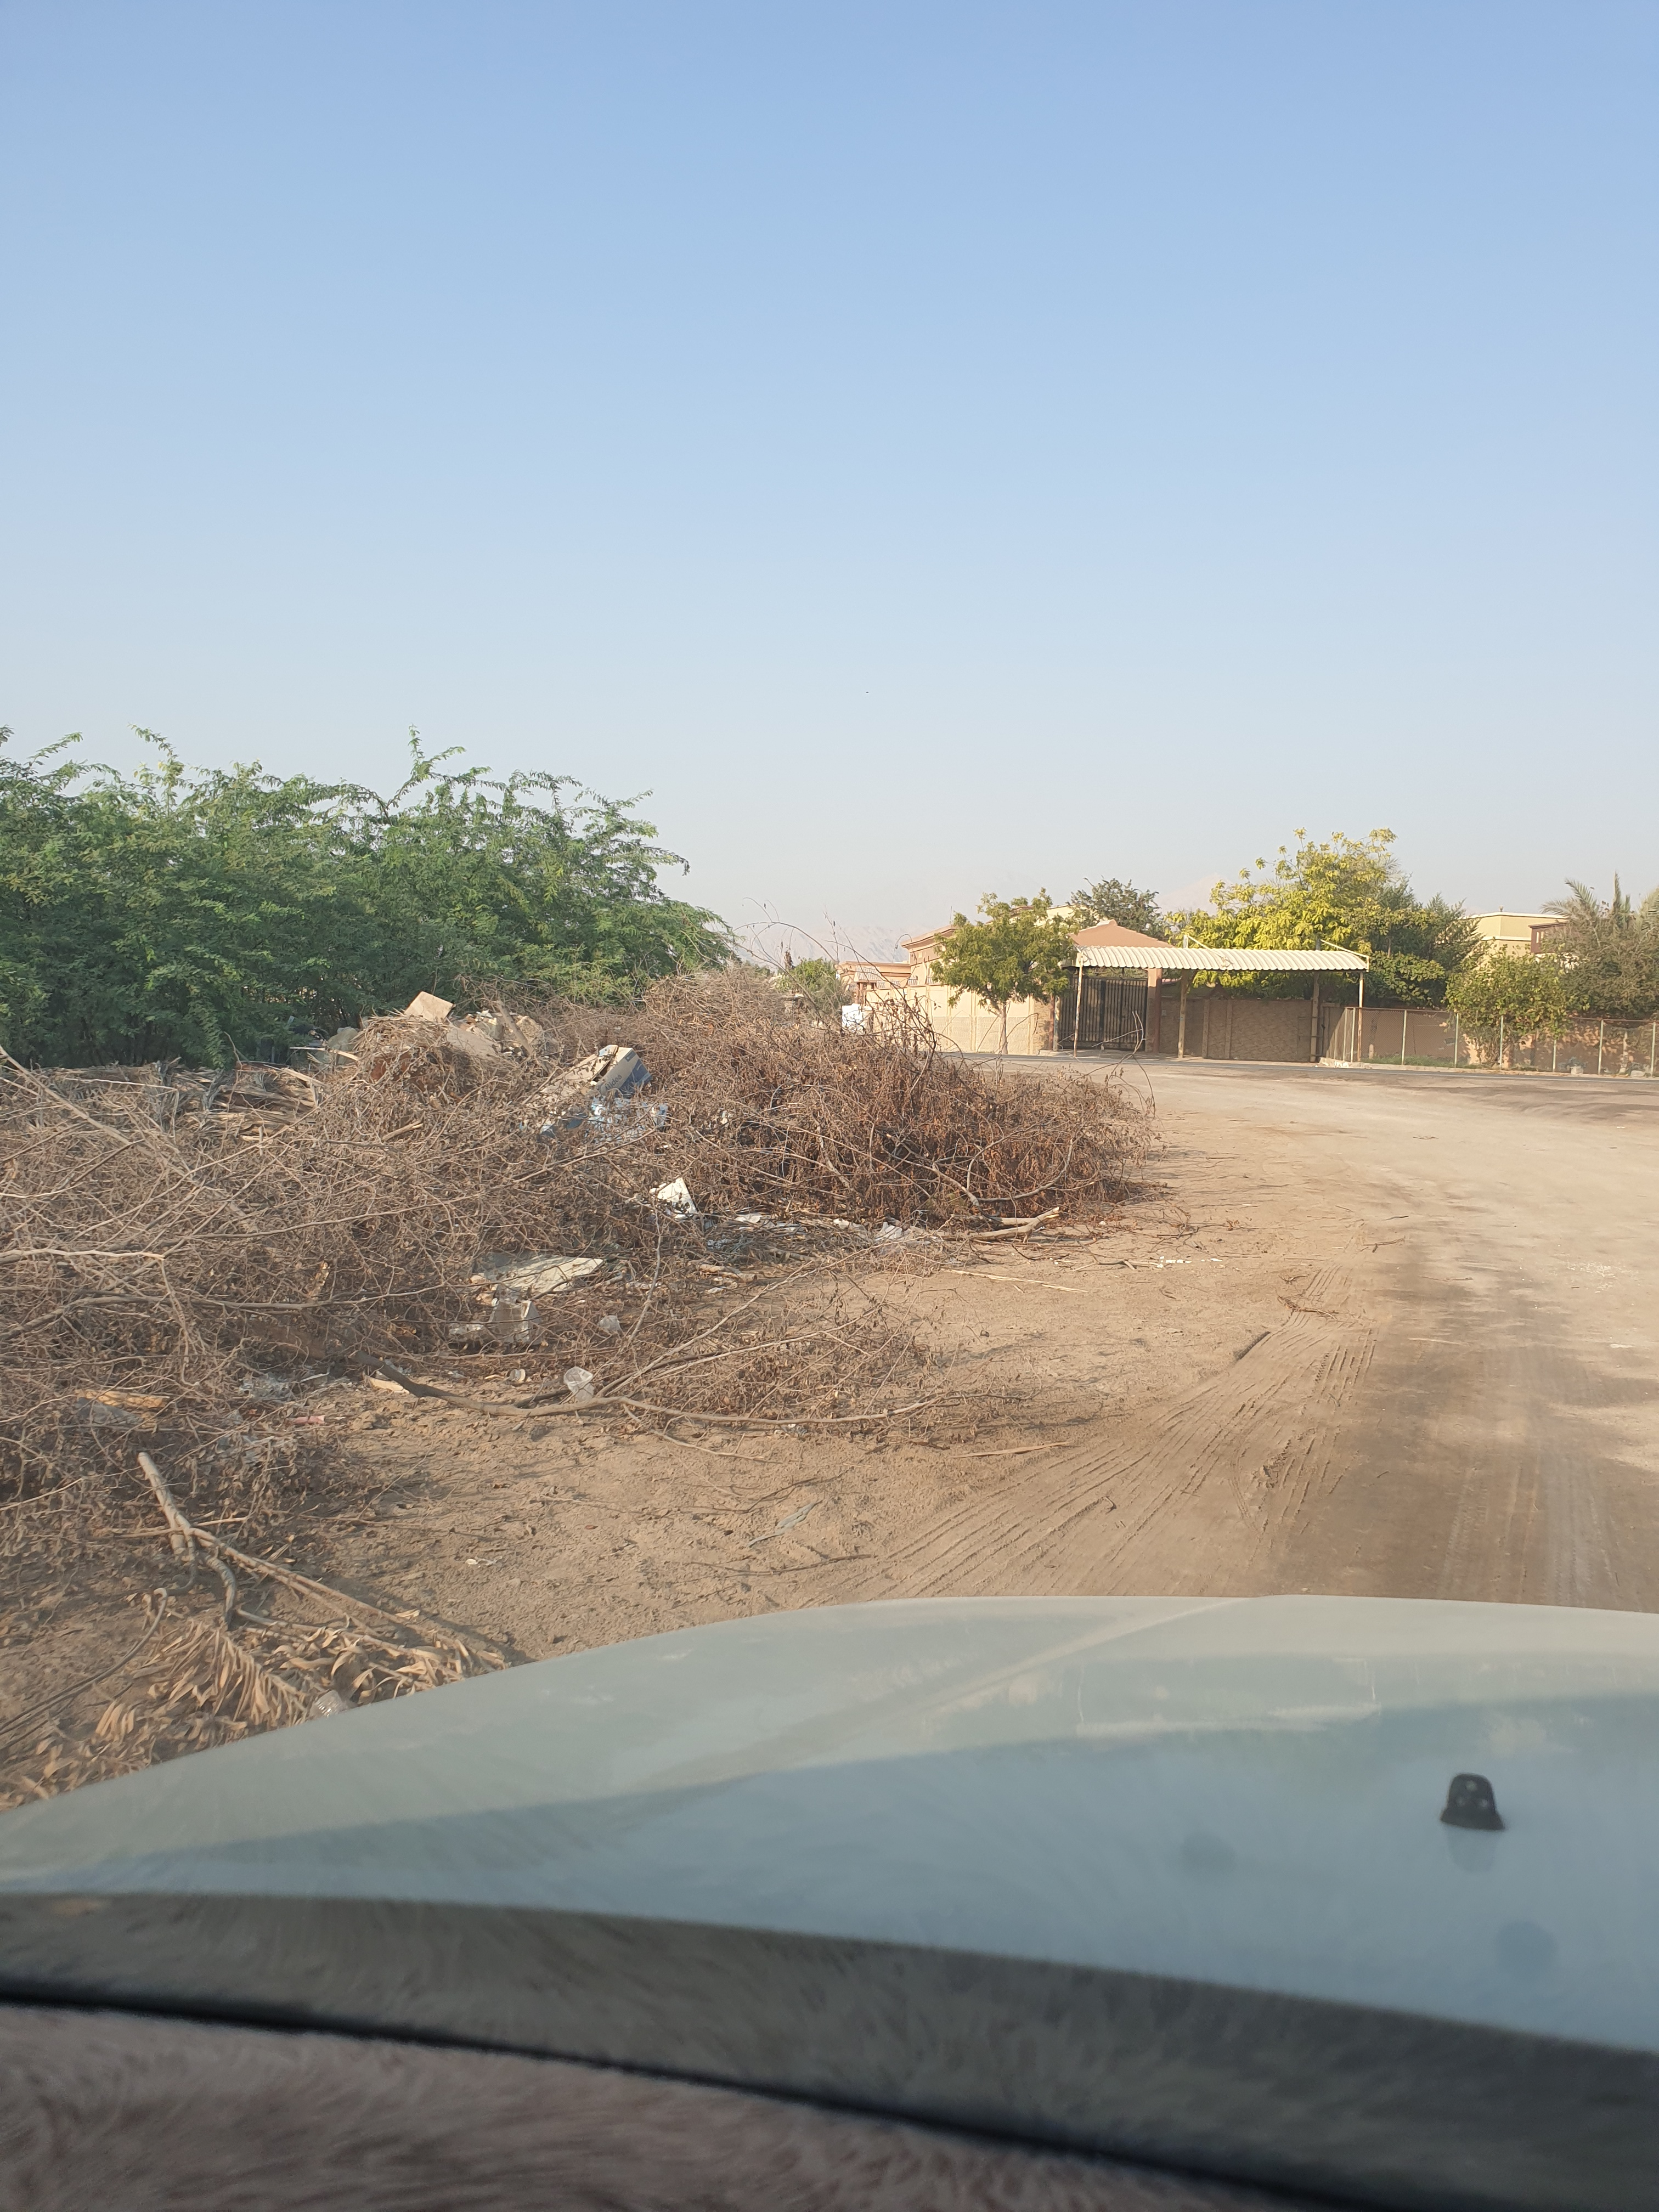fallen_trees: (579, 1280, 1182, 1519), (113, 1447, 547, 1723), (871, 1153, 1176, 1317)
